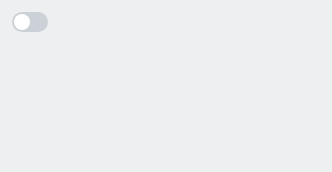
Scenario: Switch › toggles on click
What coordinates should you click on to do the following:
click the switch named "Bold totals"
I would click on:
 (30, 22)
Its box is [12,12,48,32].
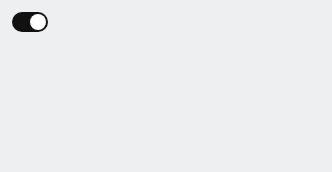
Check: the switch named "Bold totals" is checked
What coordinates should you click on to do the following:
click the switch named "Bold totals"
I would click on:
 (30, 22)
Its box is [12,12,48,32].
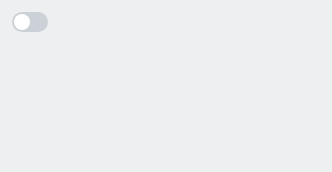
Check: the switch named "Bold totals" is not checked, box [12,12,48,32]
